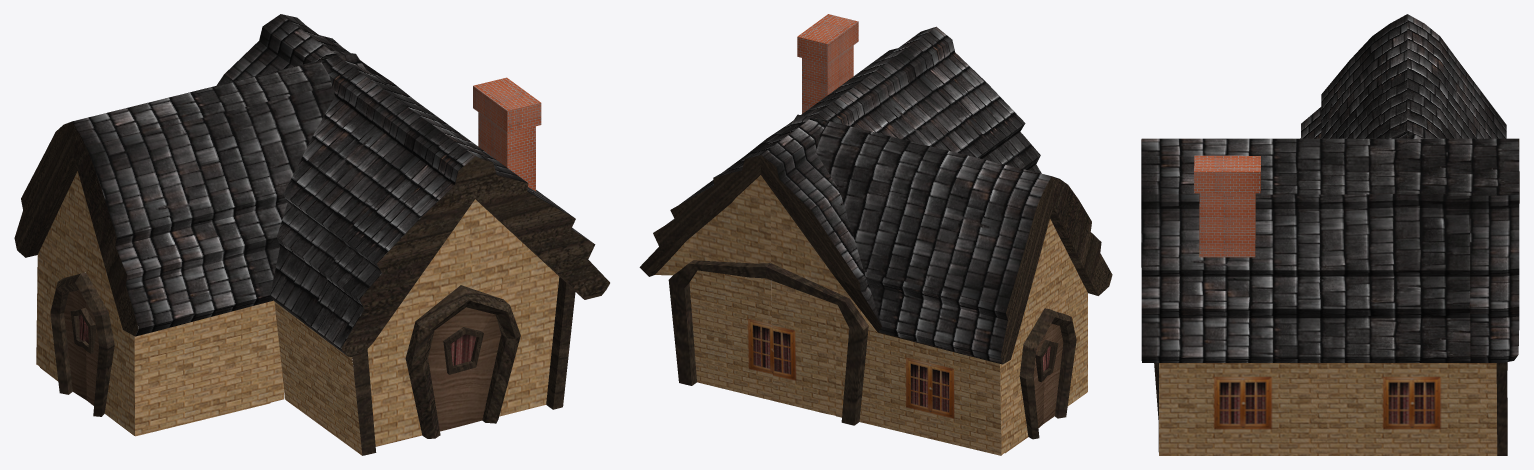
The model's file is Cabaña_Finish_V002_New_Textures.fbx.
3 renders of one model, left to right at view 1: azimuth 30°, elevation 25°; view 2: azimuth 150°, elevation 25°; view 3: azimuth 270°, elevation 25°, orthographic. The views are drawn at different scales.
Parts seen in each view (by area): view 1: Cube; view 2: Cube; view 3: Cube.
Part boxes in pixels (box(x1,y1,x2,y2)): Cube: box(14, 14, 609, 455); Cube: box(639, 14, 1112, 455); Cube: box(1141, 14, 1519, 455).
Bounding box in the file's own units: 232 × 162 × 196.
2 materials, 2 textured.
